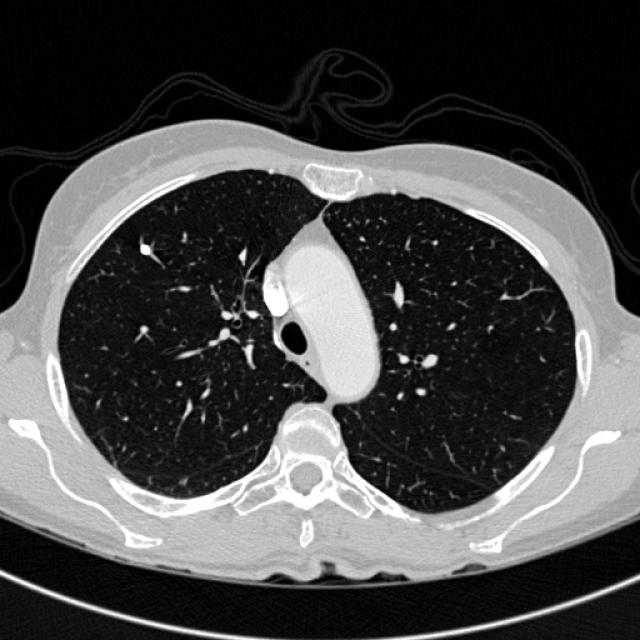nodule: (132, 236, 156, 262)
